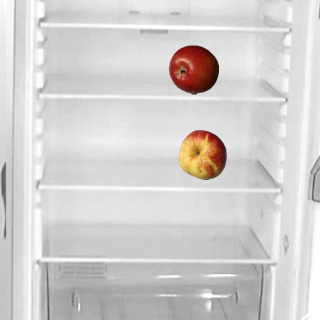Apple Braeburn: (168, 44, 218, 94)
Apple Red Yellow 1: (177, 129, 227, 179)
